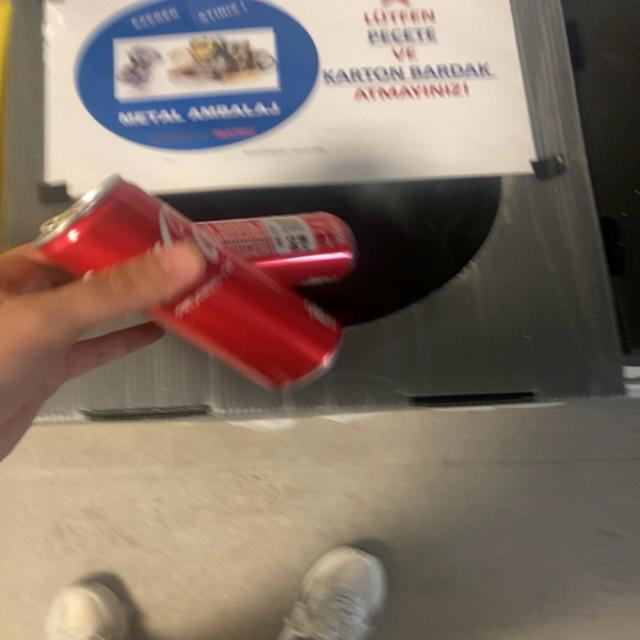bin: (34, 0, 623, 415)
metal: (41, 183, 354, 388)
